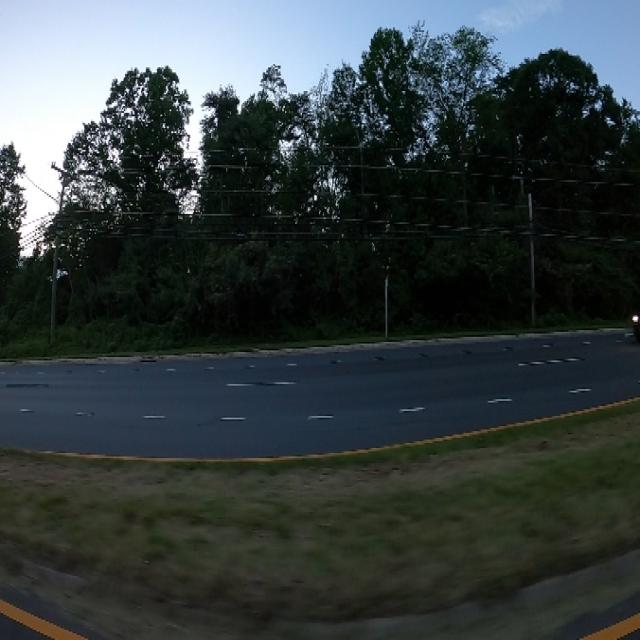cars: (631, 305, 640, 345)
